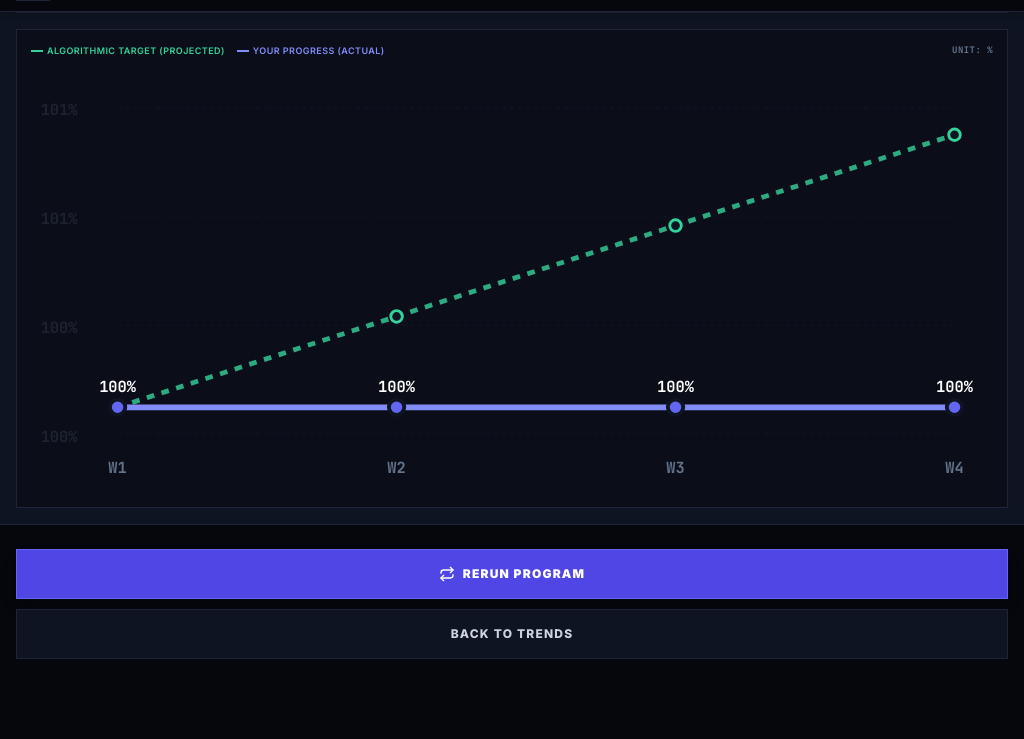
Test: RPC-2B: Program Report Card Rerun Action Suite › blocks rerun with conflict modal and protects active draft if draft belongs to another program or one-off workout
(page scrolled)
Click the button "Rerun Program": x=512, y=574 [16,548,1008,598]
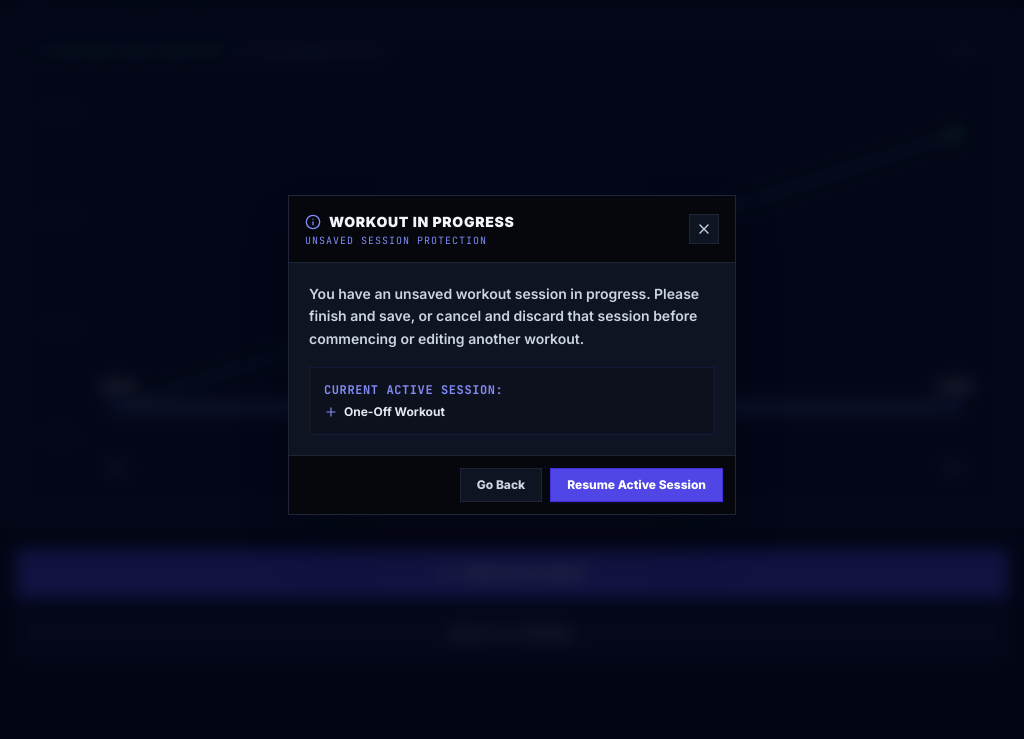
Expected: the heading "Workout In Progress" is shown, [305,212,514,232]
Expected: the text "Unsaved Session Protection" is shown, [305,236,514,246]
